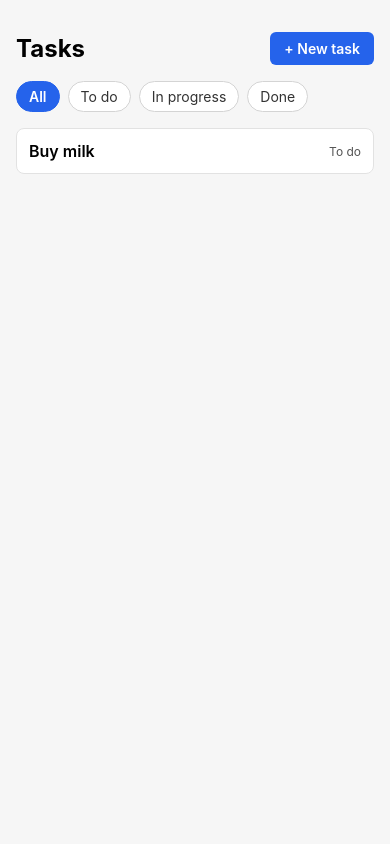
Test: TasksScreen › only offers Delete when editing
Click the text "+ New task". click: (322, 48)
box: [284,40,360,57]
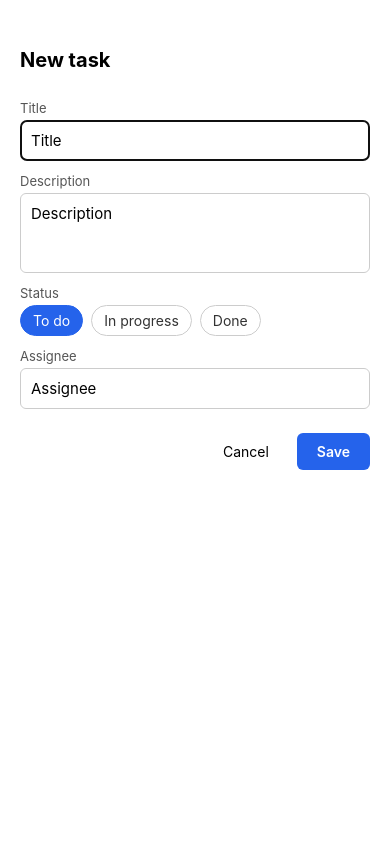
Check: the text "New task" is shown, box [20,48,110,72]
